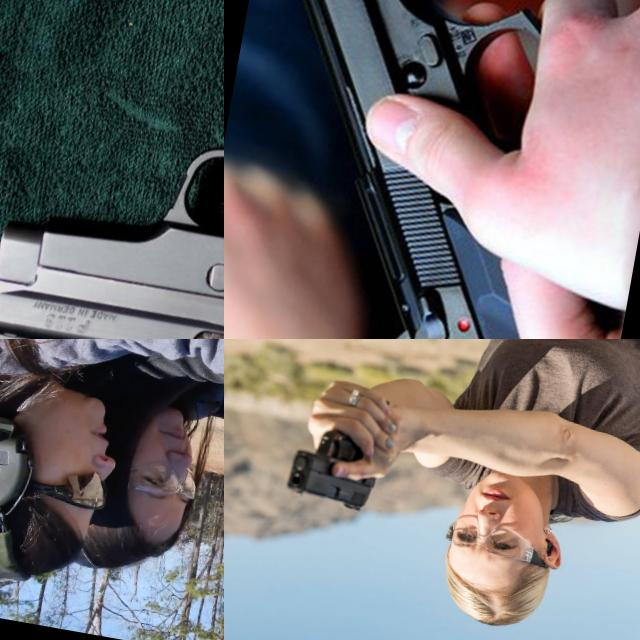handgun: (224, 0, 640, 339), (0, 0, 224, 339), (280, 410, 387, 517)
